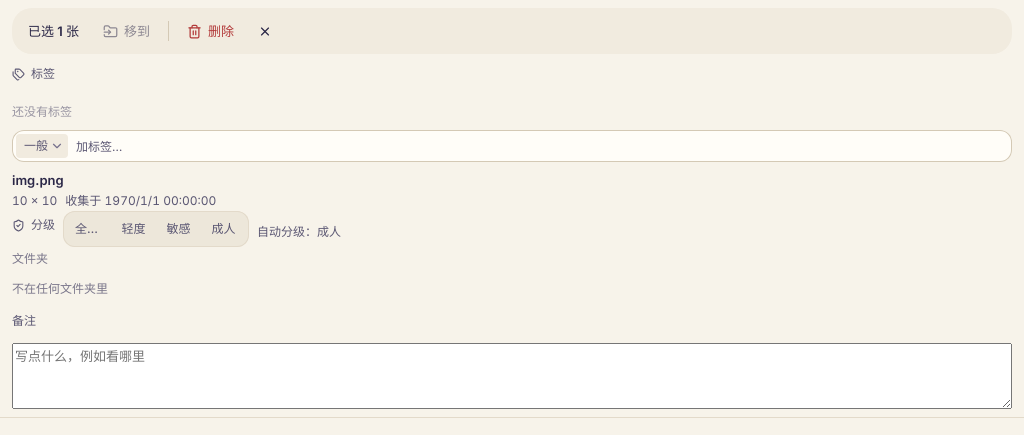
Scenario: 选中一张图：内容分级 › 显示自动分级，画师改成别的分级后标明是人工修正
The image size is (1024, 435).
expect the text "自动分级：成人" is shown: met, box [257, 222, 341, 242]
Click the button "全年龄" at (88, 229), box [67, 215, 110, 243]
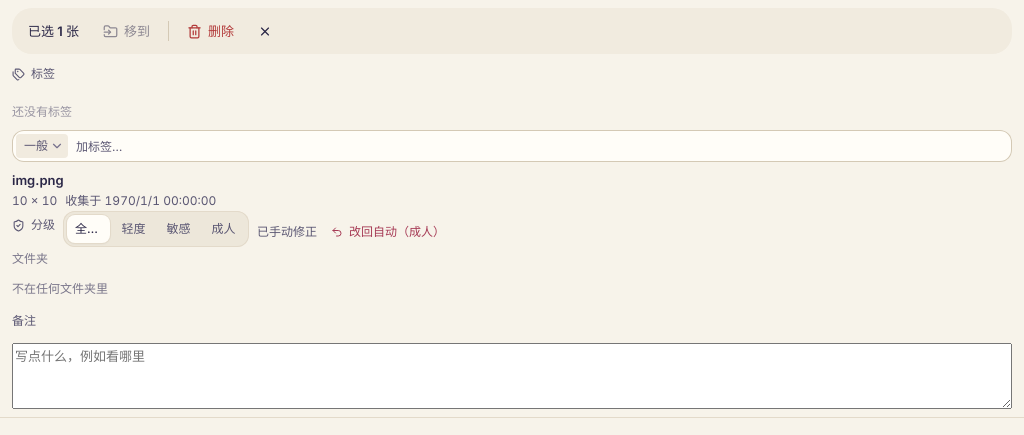
expect the text "已手动修正" is shown: met, box [257, 224, 317, 239]
